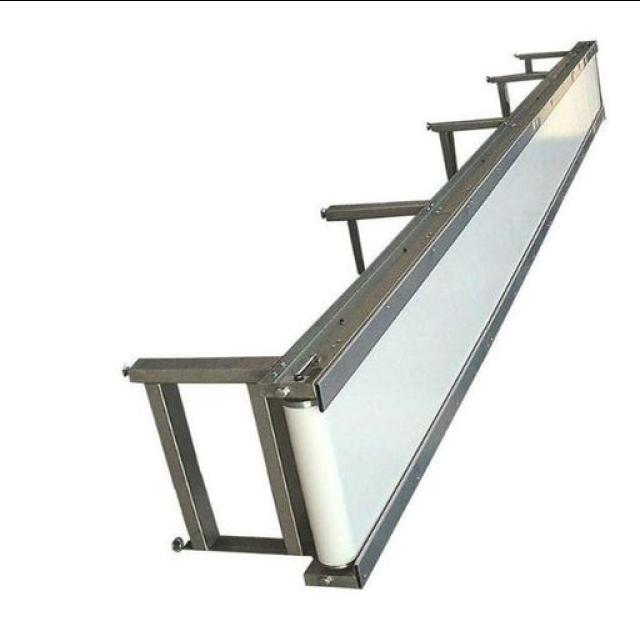conveyor: (286, 46, 607, 572)
